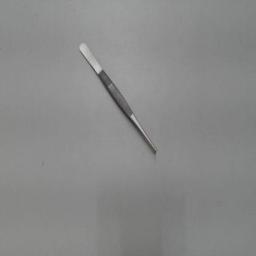Gillies Toothed Dissector: (75, 34, 163, 162)
